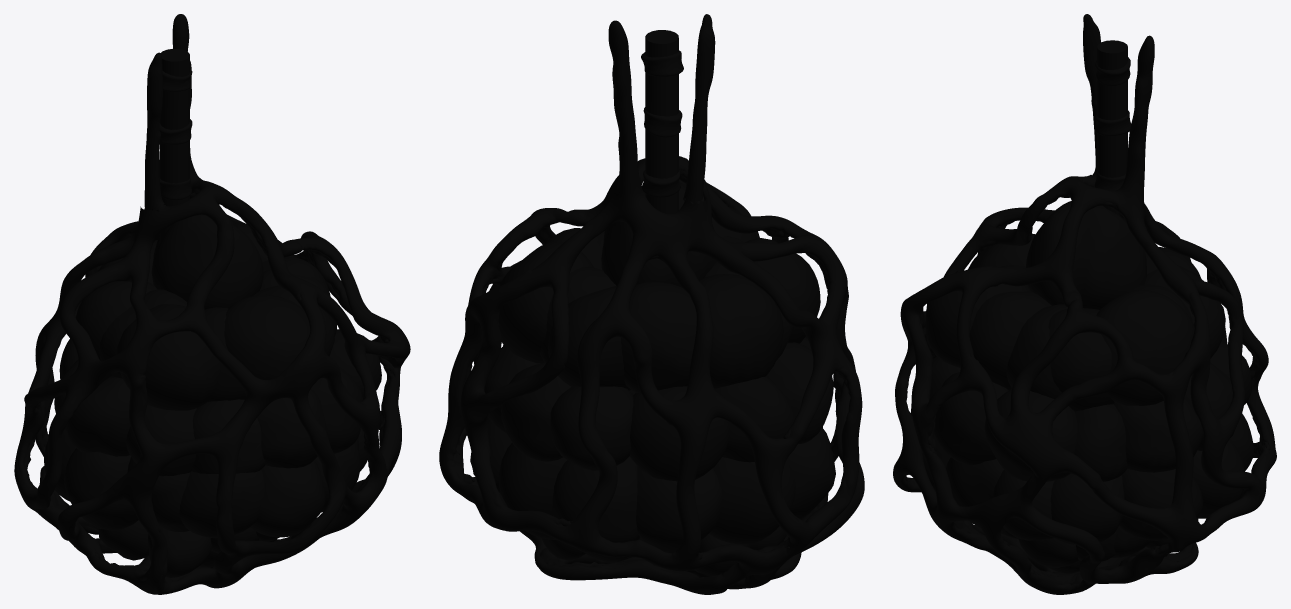
Rendered from TESTE ALVEOLOS.glb.
The picture shows the model from 3 angles, left to right: view 1: azimuth 30°, elevation 25°; view 2: azimuth 150°, elevation 25°; view 3: azimuth 270°, elevation 25°; orthographic projection. The views are drawn at different scales.
Visible parts, largest first — view 1: ALVEOLOS.1, VEIAS, Cylinder, VEIAS.1, Subdivision Surface.2; view 2: VEIAS, ALVEOLOS.1, Cylinder, VEIAS.1, Subdivision Surface.2; view 3: VEIAS, ALVEOLOS.1, Cylinder, Subdivision Surface.2, VEIAS.1.
Part boxes in pixels (<box>): ALVEOLOS.1: <box>44,214,381,577</box>; VEIAS: <box>14,14,410,594</box>; Cylinder: <box>159,49,189,243</box>; VEIAS.1: <box>144,52,165,210</box>; Subdivision Surface.2: <box>159,69,192,200</box>; VEIAS: <box>439,20,864,594</box>; ALVEOLOS.1: <box>470,182,835,576</box>; Cylinder: <box>645,30,678,213</box>; VEIAS.1: <box>683,14,715,202</box>; Subdivision Surface.2: <box>641,50,683,197</box>; VEIAS: <box>893,35,1276,594</box>; ALVEOLOS.1: <box>922,201,1253,573</box>; Cylinder: <box>1097,40,1127,221</box>; Subdivision Surface.2: <box>1094,57,1130,191</box>; VEIAS.1: <box>1083,14,1100,178</box>.
Size of the model in its own units: 3.16 by 4.57 by 2.96.
4 materials, 4 textured.
